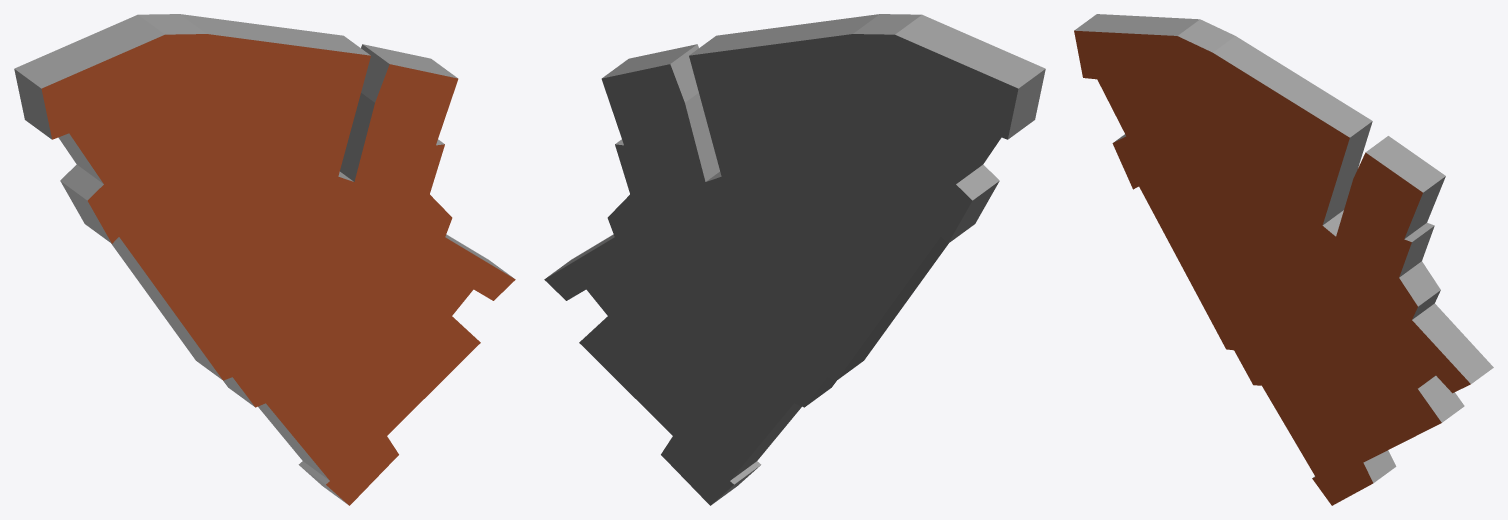
The model's file is construction_4738_assumed_A_Casa_h6m.obj.
The picture shows the model from 3 angles, left to right: view 1: azimuth 30°, elevation 25°; view 2: azimuth 150°, elevation 25°; view 3: azimuth 330°, elevation 25°; orthographic projection. The views are drawn at different scales.
Visible parts, largest first — view 1: construction_4738_assumed_A_Casa; view 2: construction_4738_assumed_A_Casa; view 3: construction_4738_assumed_A_Casa.
Boxes of the visible parts, <box> form: construction_4738_assumed_A_Casa: <box>14,14,515,505</box>; construction_4738_assumed_A_Casa: <box>544,14,1045,505</box>; construction_4738_assumed_A_Casa: <box>1074,14,1493,505</box>.
Size of the model in its own units: 60.19 by 62.61 by 6.
